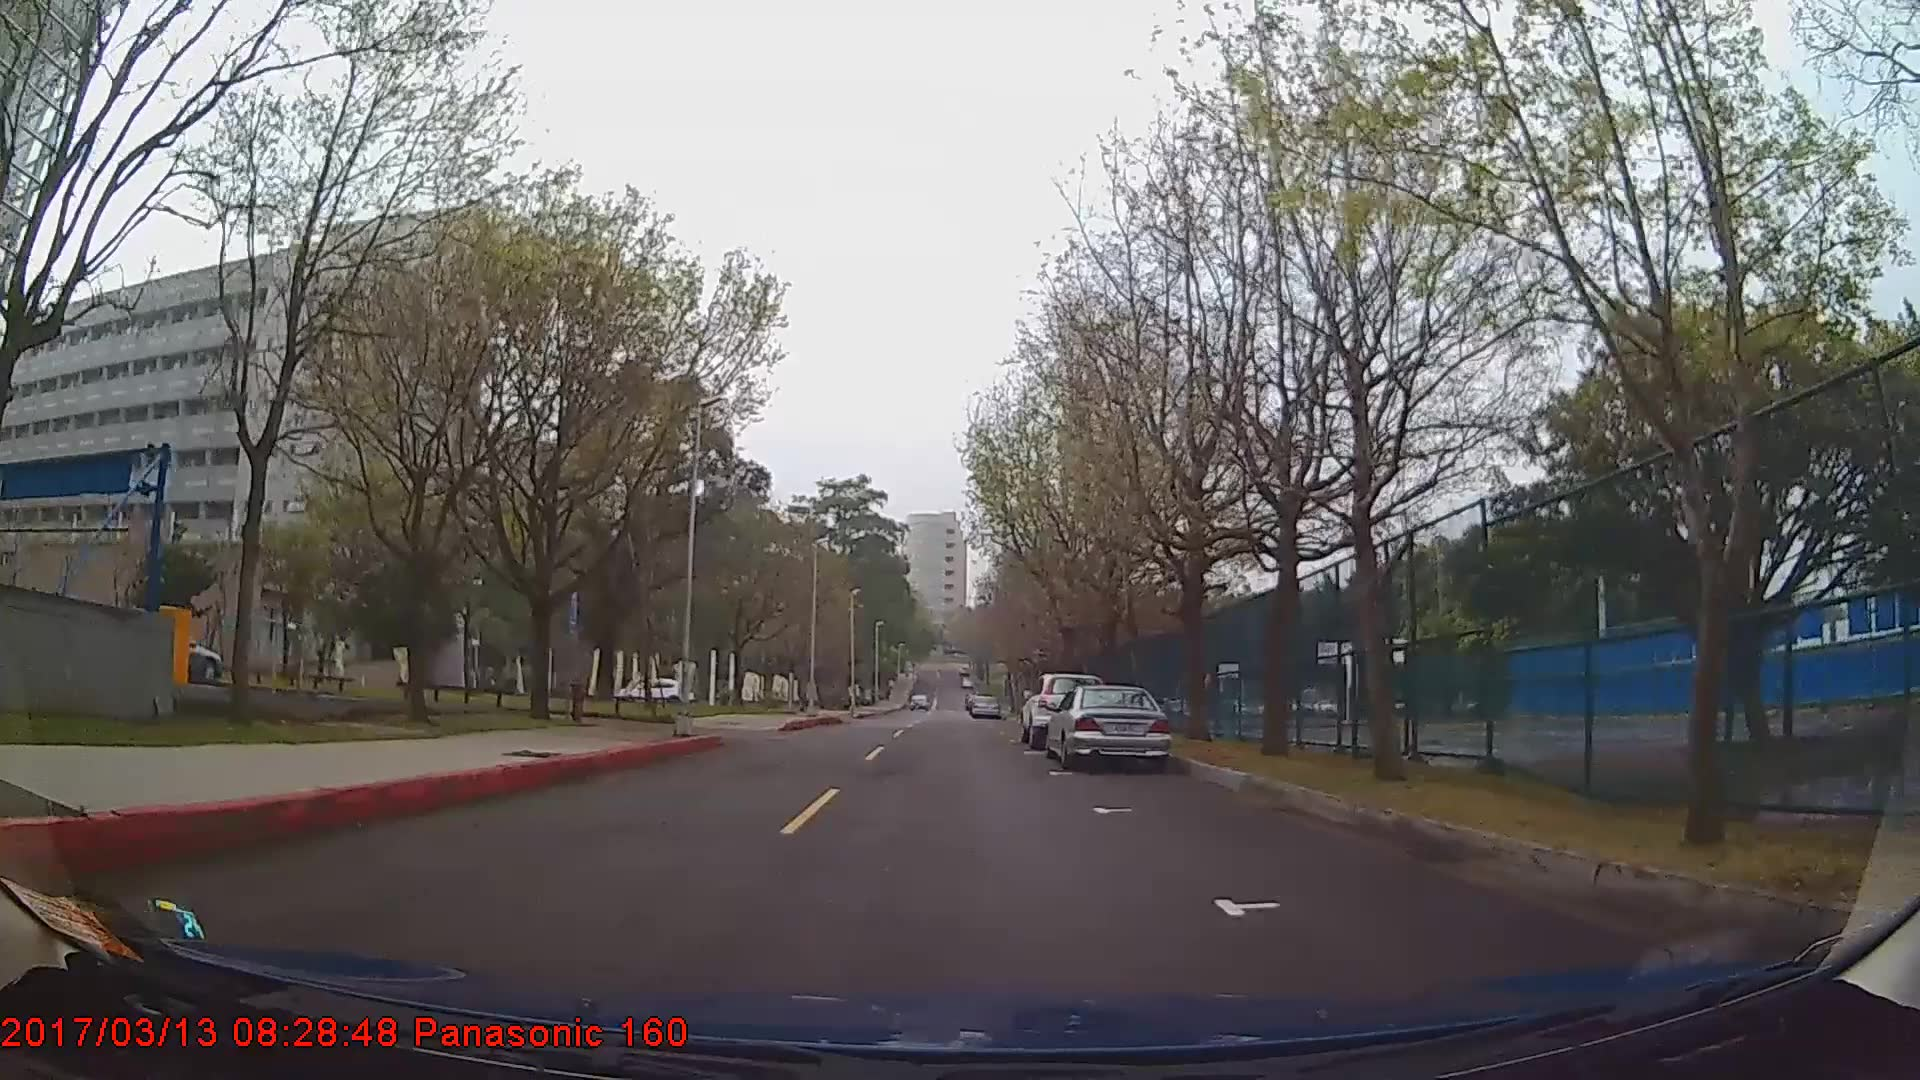vehicle: (1043, 682, 1170, 767), (1021, 669, 1106, 746), (615, 675, 696, 707), (969, 690, 1000, 717)
